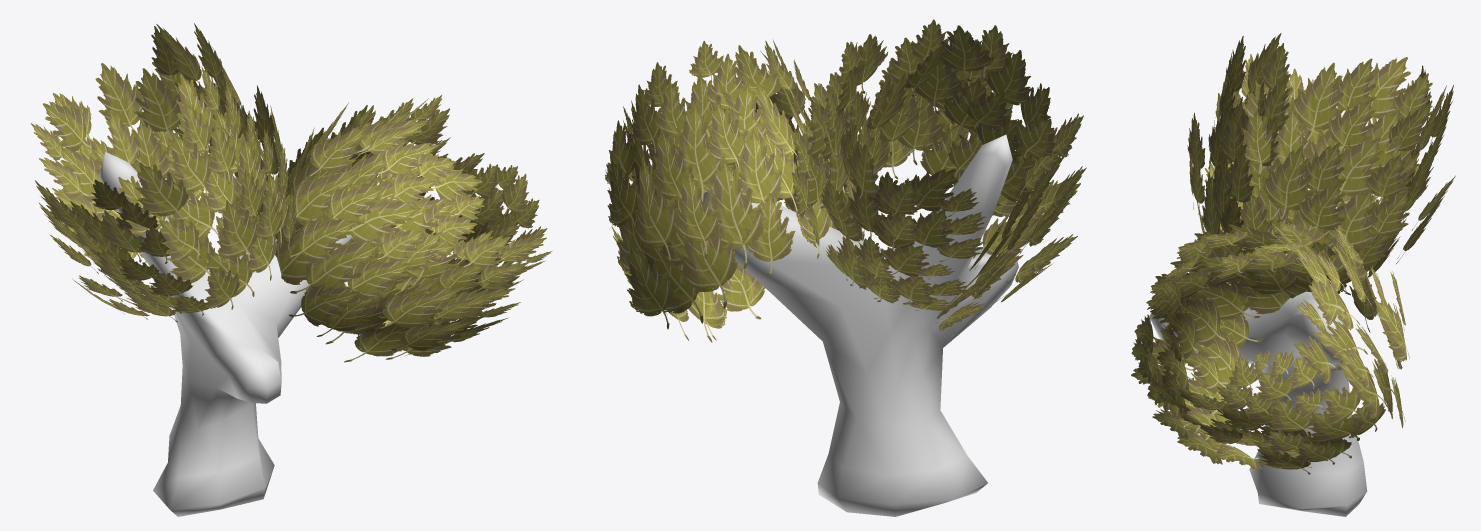
File: Tree3.fbx
The picture shows the model from 3 angles, left to right: view 1: azimuth 30°, elevation 25°; view 2: azimuth 150°, elevation 25°; view 3: azimuth 270°, elevation 25°; orthographic projection. The views are drawn at different scales.
Visible parts, largest first — view 1: Tree3; view 2: Tree3; view 3: Tree3.
Part boxes in pixels (box(x1,y1,x2,y2)): Tree3: box(30, 23, 552, 516); Tree3: box(605, 19, 1086, 516); Tree3: box(1131, 33, 1455, 516).
Bounding box in the file's own units: 22.3 × 20.69 × 14.09.
